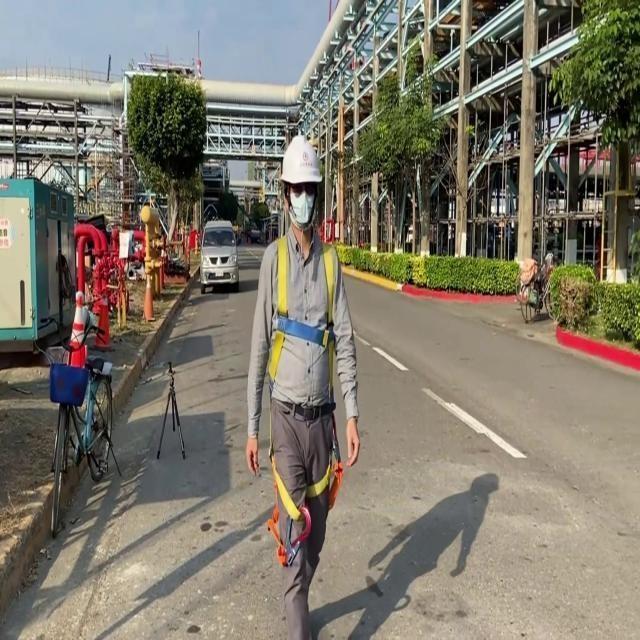Arnes_seguridad: (267, 227, 344, 518)
